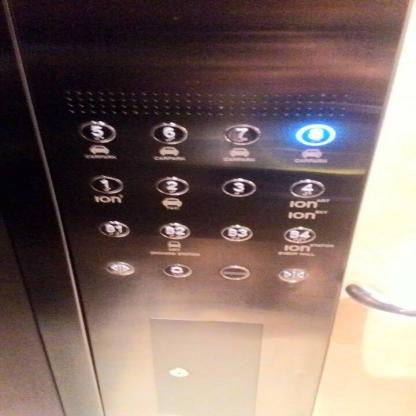1: (86, 173, 124, 194)
2: (153, 175, 191, 196)
3: (220, 176, 258, 197)
4: (288, 178, 326, 198)
5: (76, 119, 119, 144)
6: (148, 120, 191, 146)
7: (221, 121, 264, 146)
8: (294, 121, 338, 147)
B1: (95, 219, 132, 238)
B2: (156, 221, 192, 240)
B3: (219, 223, 255, 242)
B4: (281, 225, 317, 244)
alarm: (160, 262, 194, 278)
blur: (217, 263, 252, 282)
close: (276, 265, 312, 284)
open: (103, 260, 137, 276)
